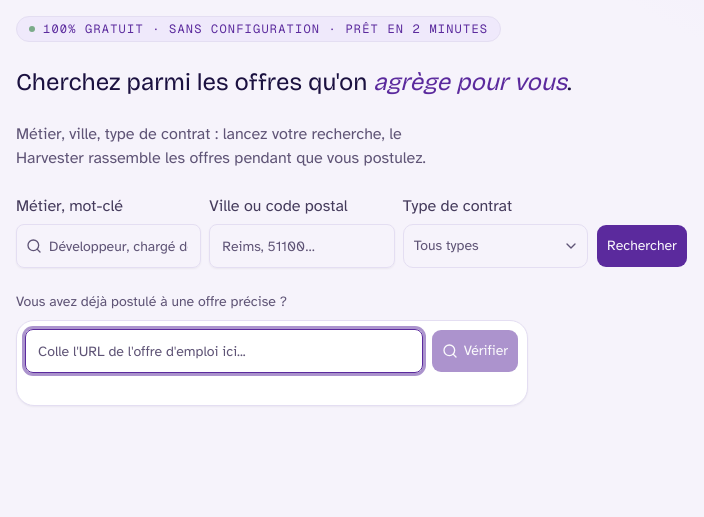
it: Home — nouvelle candidature (vérification instantanée + enrichissement asynchrone, JOB-ASYNC-ENRICH) › shows a pending-enrichment indicator when the job is created without a title yet
Type "example.com/job" into the field with placeholder "Colle l'URL de l'offre d'emploi ici..." at [224, 351], box x1=25 y1=329 x2=423 y2=373
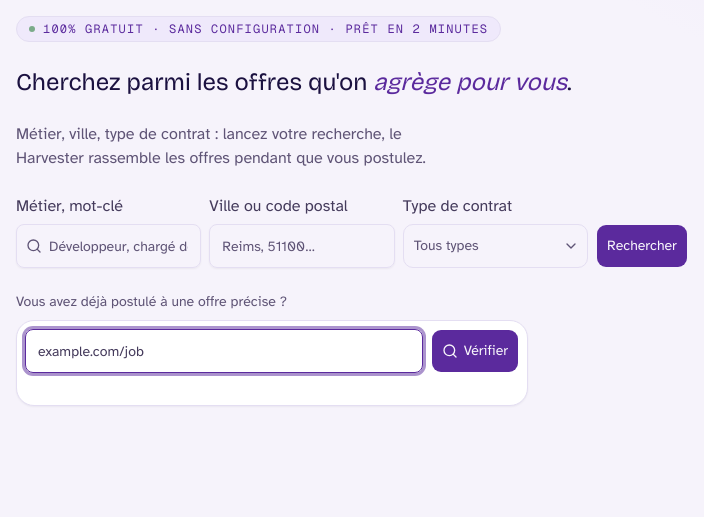
Click the button "Vérifier" at [475, 351], box x1=431 y1=329 x2=519 y2=373
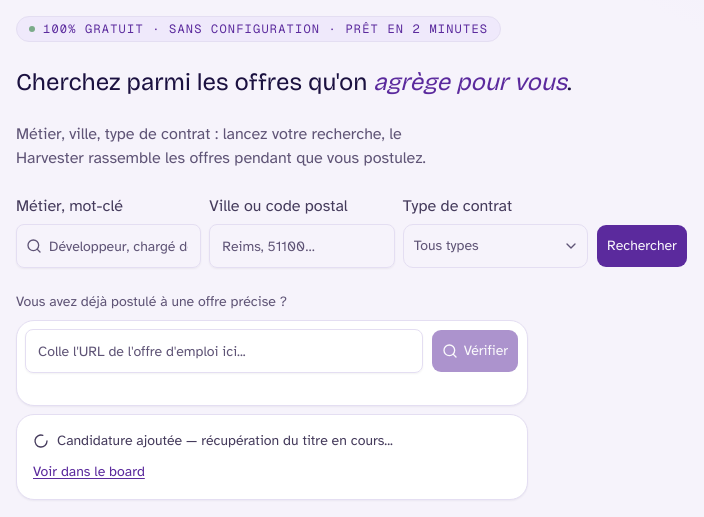
Expected: the element with test id "created-job-enriching" shows "récupération du titre en cours", x1=57 y1=432 x2=393 y2=449
